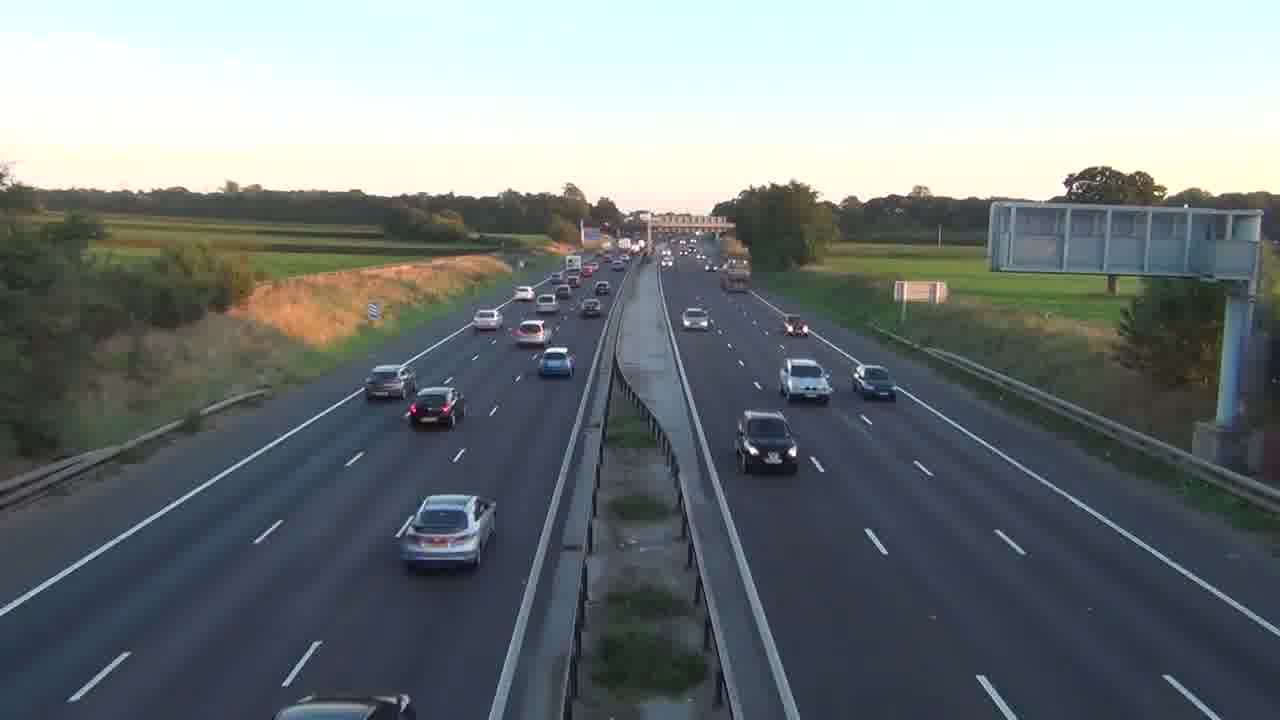car: (393, 493, 499, 574), (734, 408, 800, 475), (408, 386, 466, 430), (779, 357, 833, 403), (851, 364, 898, 401), (365, 365, 408, 402), (534, 347, 576, 379), (510, 319, 546, 347), (681, 306, 710, 331)
